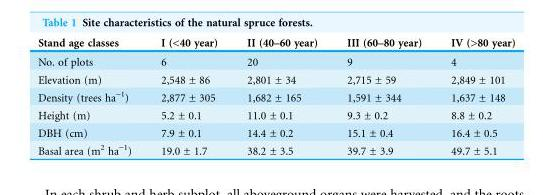table: (37, 37, 514, 156)
table column: (37, 37, 145, 156), (331, 37, 435, 156), (231, 37, 331, 156), (145, 37, 231, 156), (435, 37, 514, 156)
table column header: (37, 37, 514, 52)
table row: (37, 86, 514, 106), (37, 52, 514, 71), (37, 106, 514, 124), (37, 139, 514, 156), (37, 37, 514, 52), (37, 71, 514, 86), (37, 124, 514, 139)
